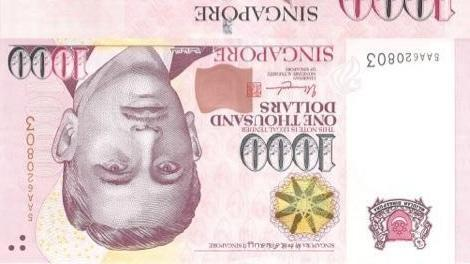1000SingaporeDollar: (0, 41, 470, 264)
